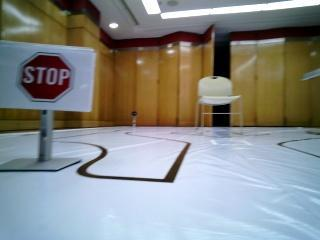stop: (13, 45, 84, 112)
